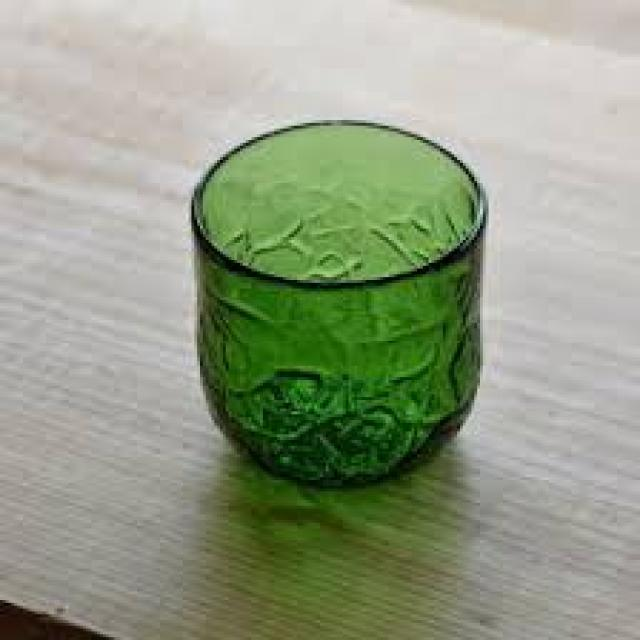glass: (188, 117, 483, 489)
